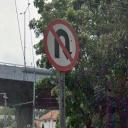NoVirarU: (40, 16, 82, 74)
